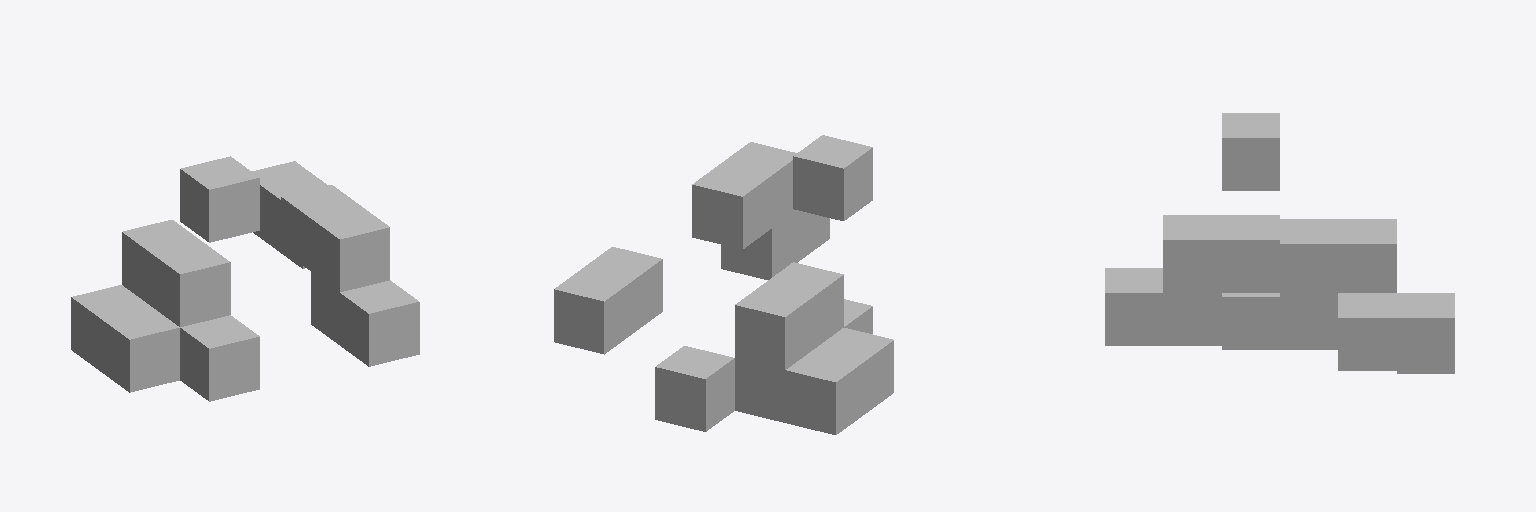
The model's file is alphaca_spit.obj.
3 views of the same model, side by side, from view 1: azimuth 30°, elevation 25°; view 2: azimuth 150°, elevation 25°; view 3: azimuth 270°, elevation 25° (orthographic).
Bounding box in the file's own units: 5 × 4 × 6.